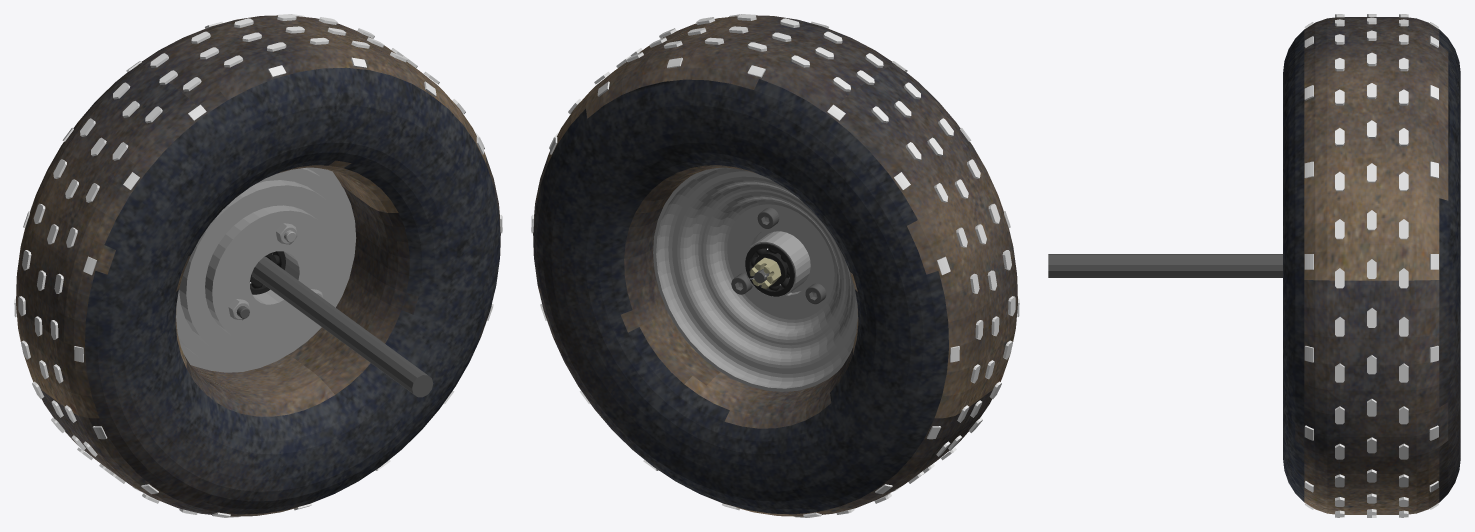
Rendered from RTI_Link.fbx.
3 views of the same model, side by side, from view 1: azimuth 30°, elevation 25°; view 2: azimuth 150°, elevation 25°; view 3: azimuth 270°, elevation 25° (orthographic).
Visible parts, largest first — view 1: Neumatico_1, LLanta, Neumatico_2, Eje; view 2: Neumatico_1, LLanta, Neumatico_2, Rodamiento, Tuerca; view 3: Neumatico_1, Neumatico_2, Eje.
Part boxes in pixels (box(x1,y1,x2,y2)): Neumatico_1: box(16, 15, 500, 516); LLanta: box(176, 167, 356, 372); Neumatico_2: box(14, 14, 502, 517); Eje: box(251, 256, 433, 397); Neumatico_1: box(533, 15, 1017, 516); LLanta: box(653, 167, 857, 391); Neumatico_2: box(531, 14, 1019, 517); Rodamiento: box(745, 243, 794, 296); Tuerca: box(749, 257, 781, 288); Neumatico_1: box(1283, 17, 1460, 514); Neumatico_2: box(1304, 14, 1438, 517); Eje: box(1048, 254, 1282, 277).
Size of the model in its own units: 35.46 by 35.46 by 29.
Materials: 6 (1 with a texture image).
